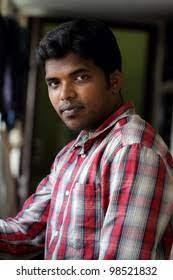Human: (13, 24, 168, 276)
